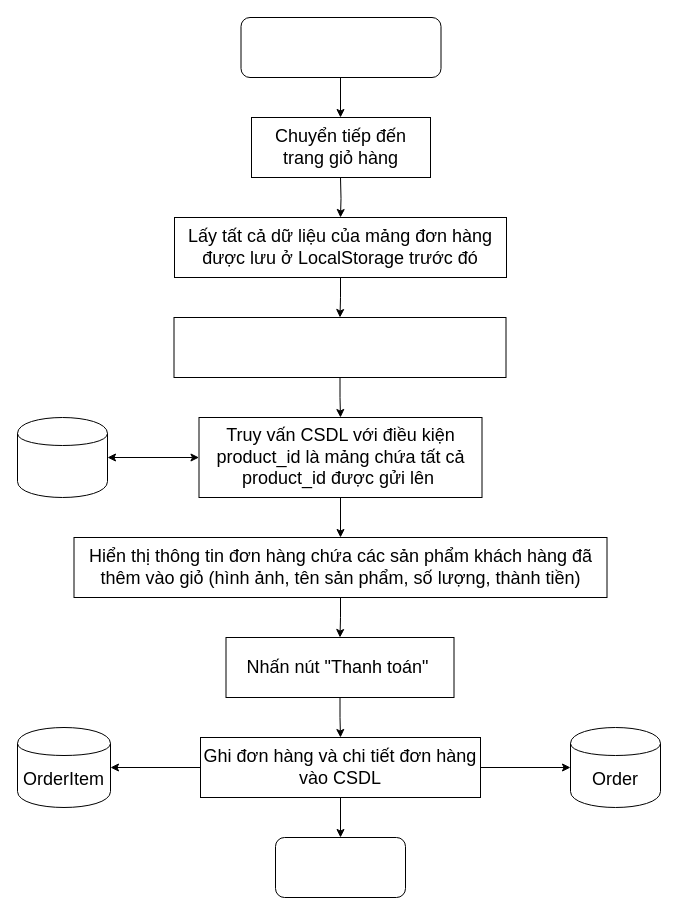
Some shapes in this 678 by 915 pixel diagram are drawn without their labels. Each missing label, with the centre of its shape:
"Gửi yêu cầu đến server có đính kèm mảng chứa tất cả mã của sản phẩm" belongs at point (339, 347).
"Kết thúc" belongs at point (340, 867).
"Nhấn vào icon giỏ hàng ở header" belongs at point (340, 47).
"Product" belongs at point (62, 457).
